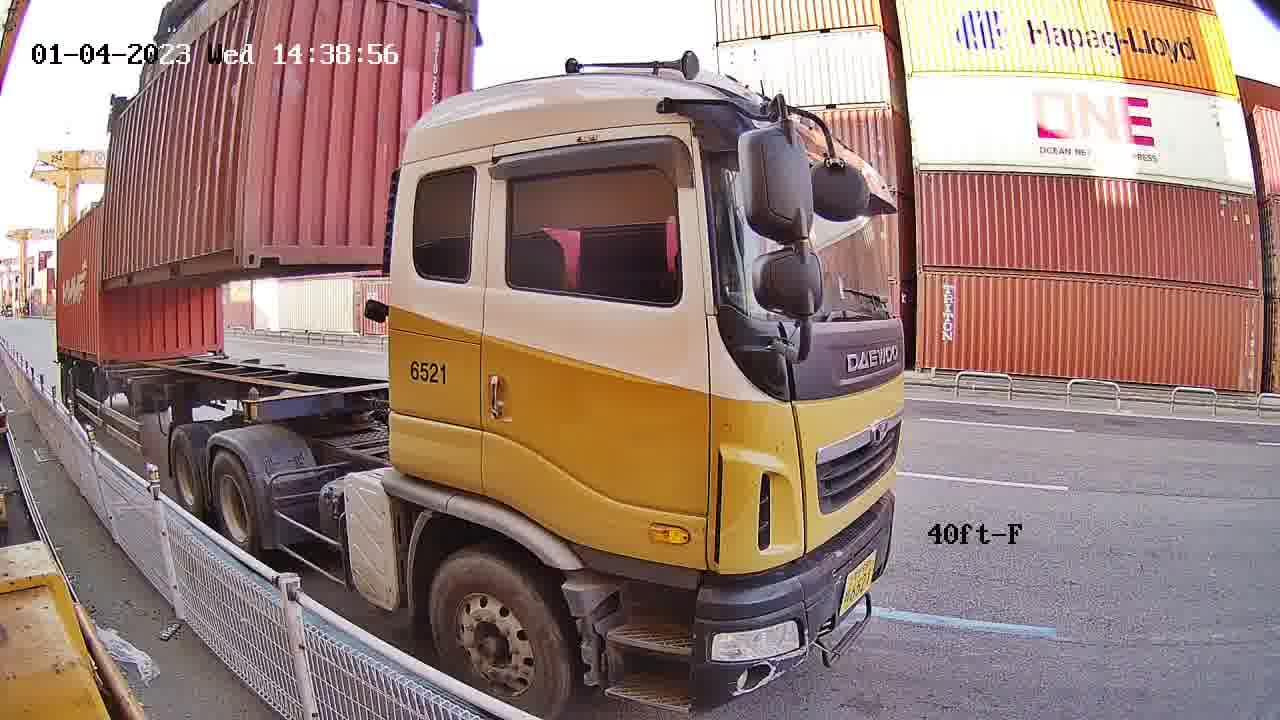Chassis: (244, 382, 389, 421)
Cone: (244, 383, 262, 420)
Hole_L: (243, 227, 285, 269)
Hole_R: (217, 227, 245, 269)
Tire: (171, 431, 205, 511)
